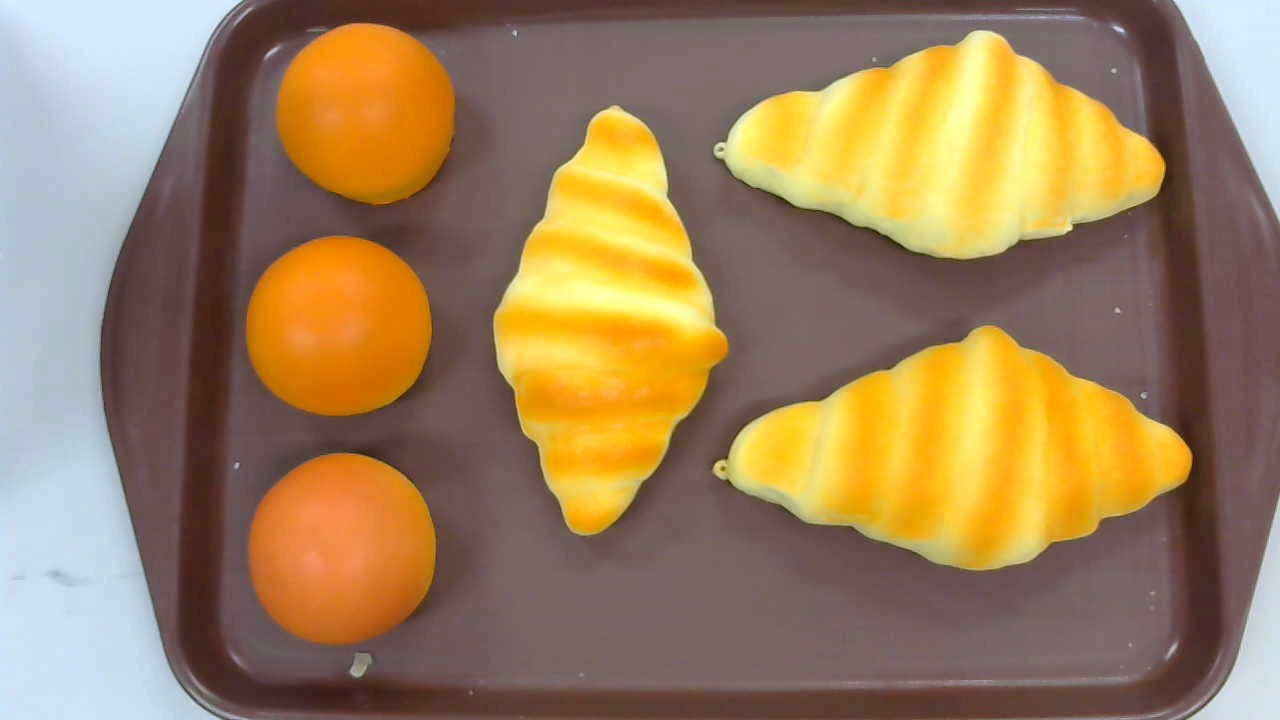bun: (247, 452, 437, 646), (244, 234, 431, 417), (275, 21, 455, 206)
croissant: (713, 324, 1193, 572), (712, 27, 1166, 262), (493, 104, 727, 537)
